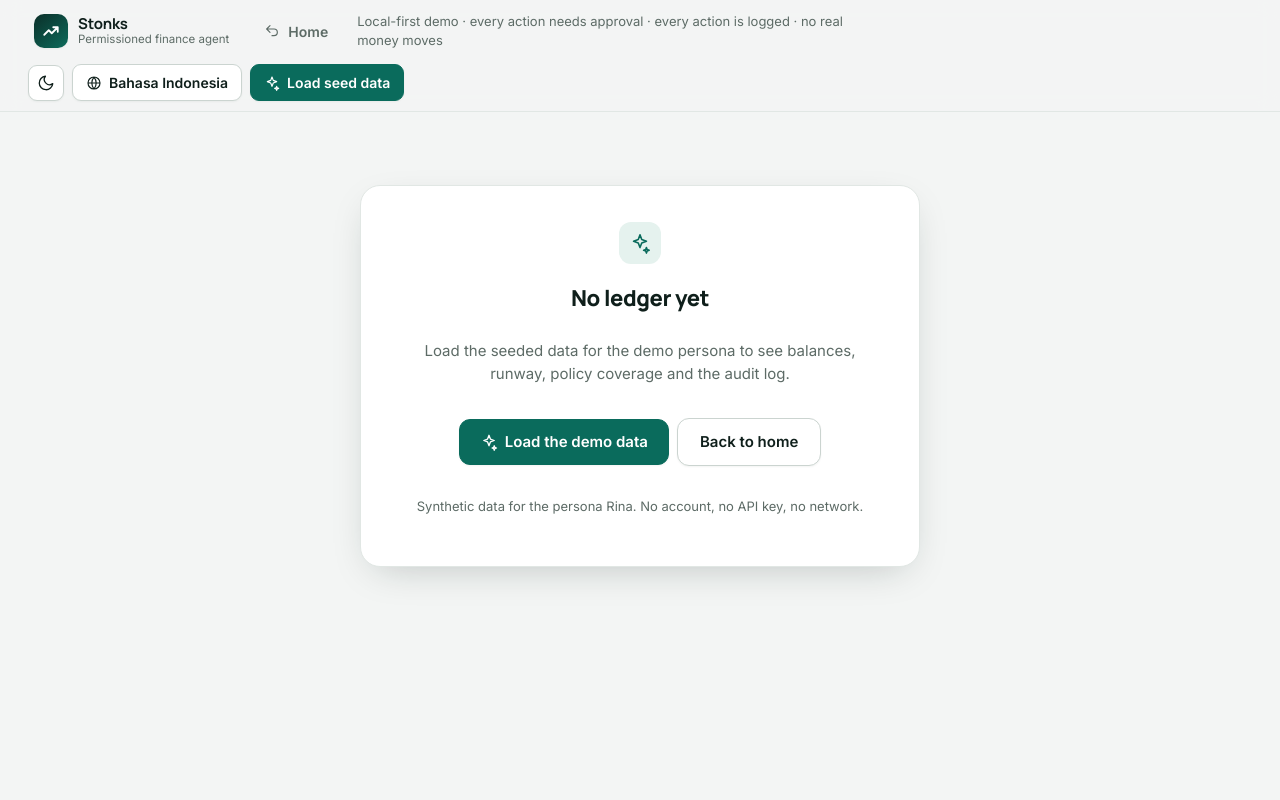
Test case: dashboard (DASH-1, FC-4, ACT-6) › shows the runway with its inputs, and alerts that come from the forecast
The image size is (1280, 800).
Click the button with test id "load-seed": (327,82) [250, 64, 404, 101]
(page scrolled)
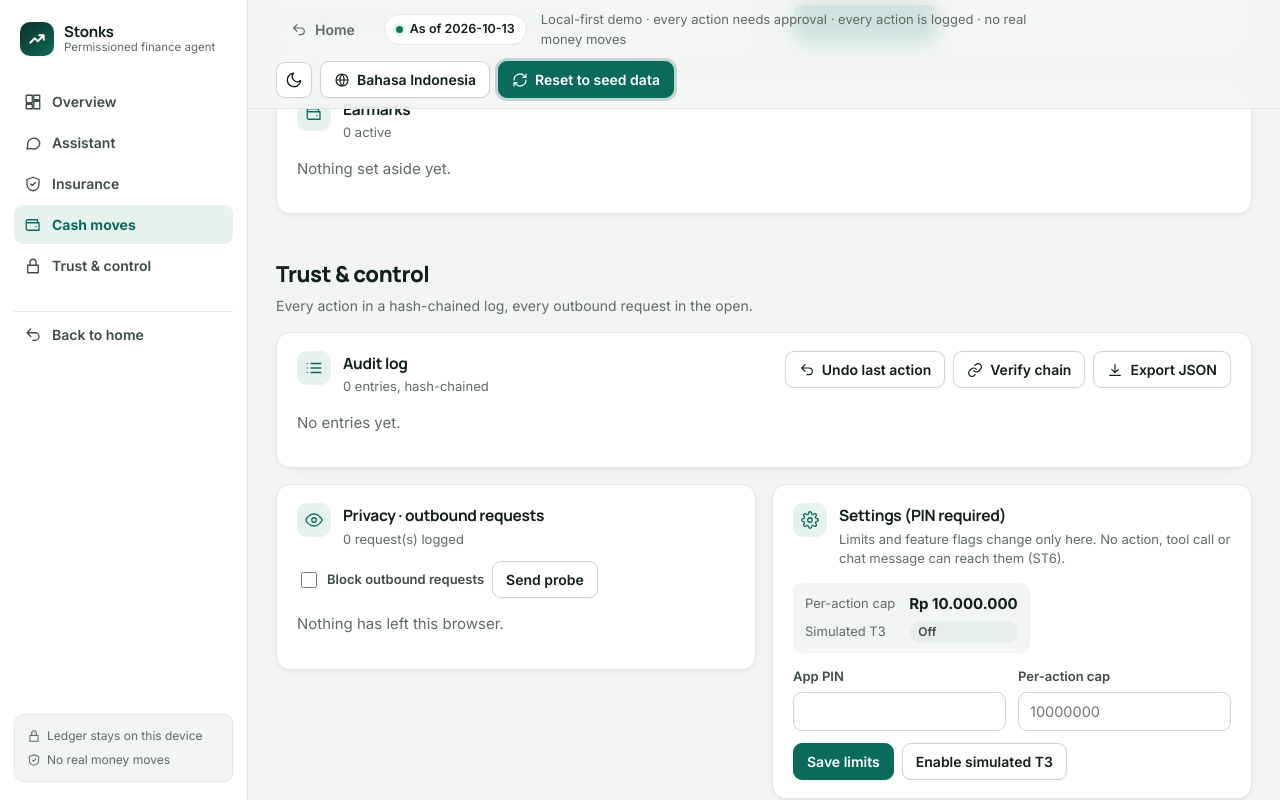
Now the element with test id "audit-log" is shown, box [276, 332, 1252, 468]
